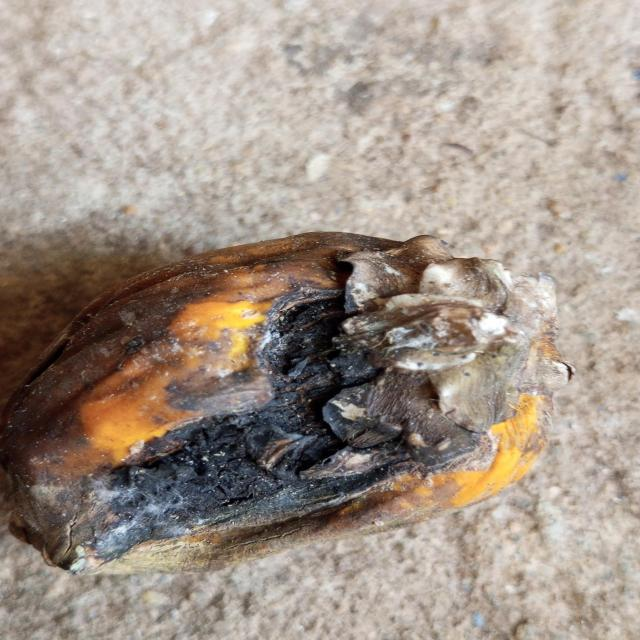damaged: (0, 231, 572, 578)
